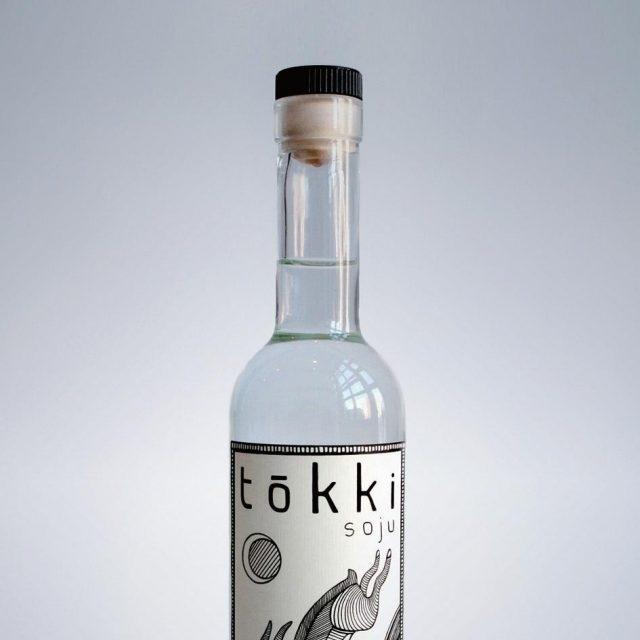soju: (224, 61, 412, 640)
